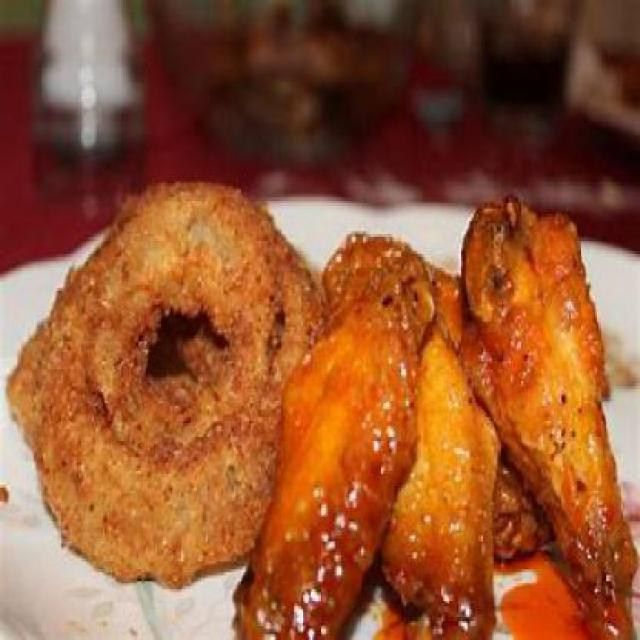chicken wings: (296, 180, 638, 637)
onion rings: (7, 158, 315, 592)
